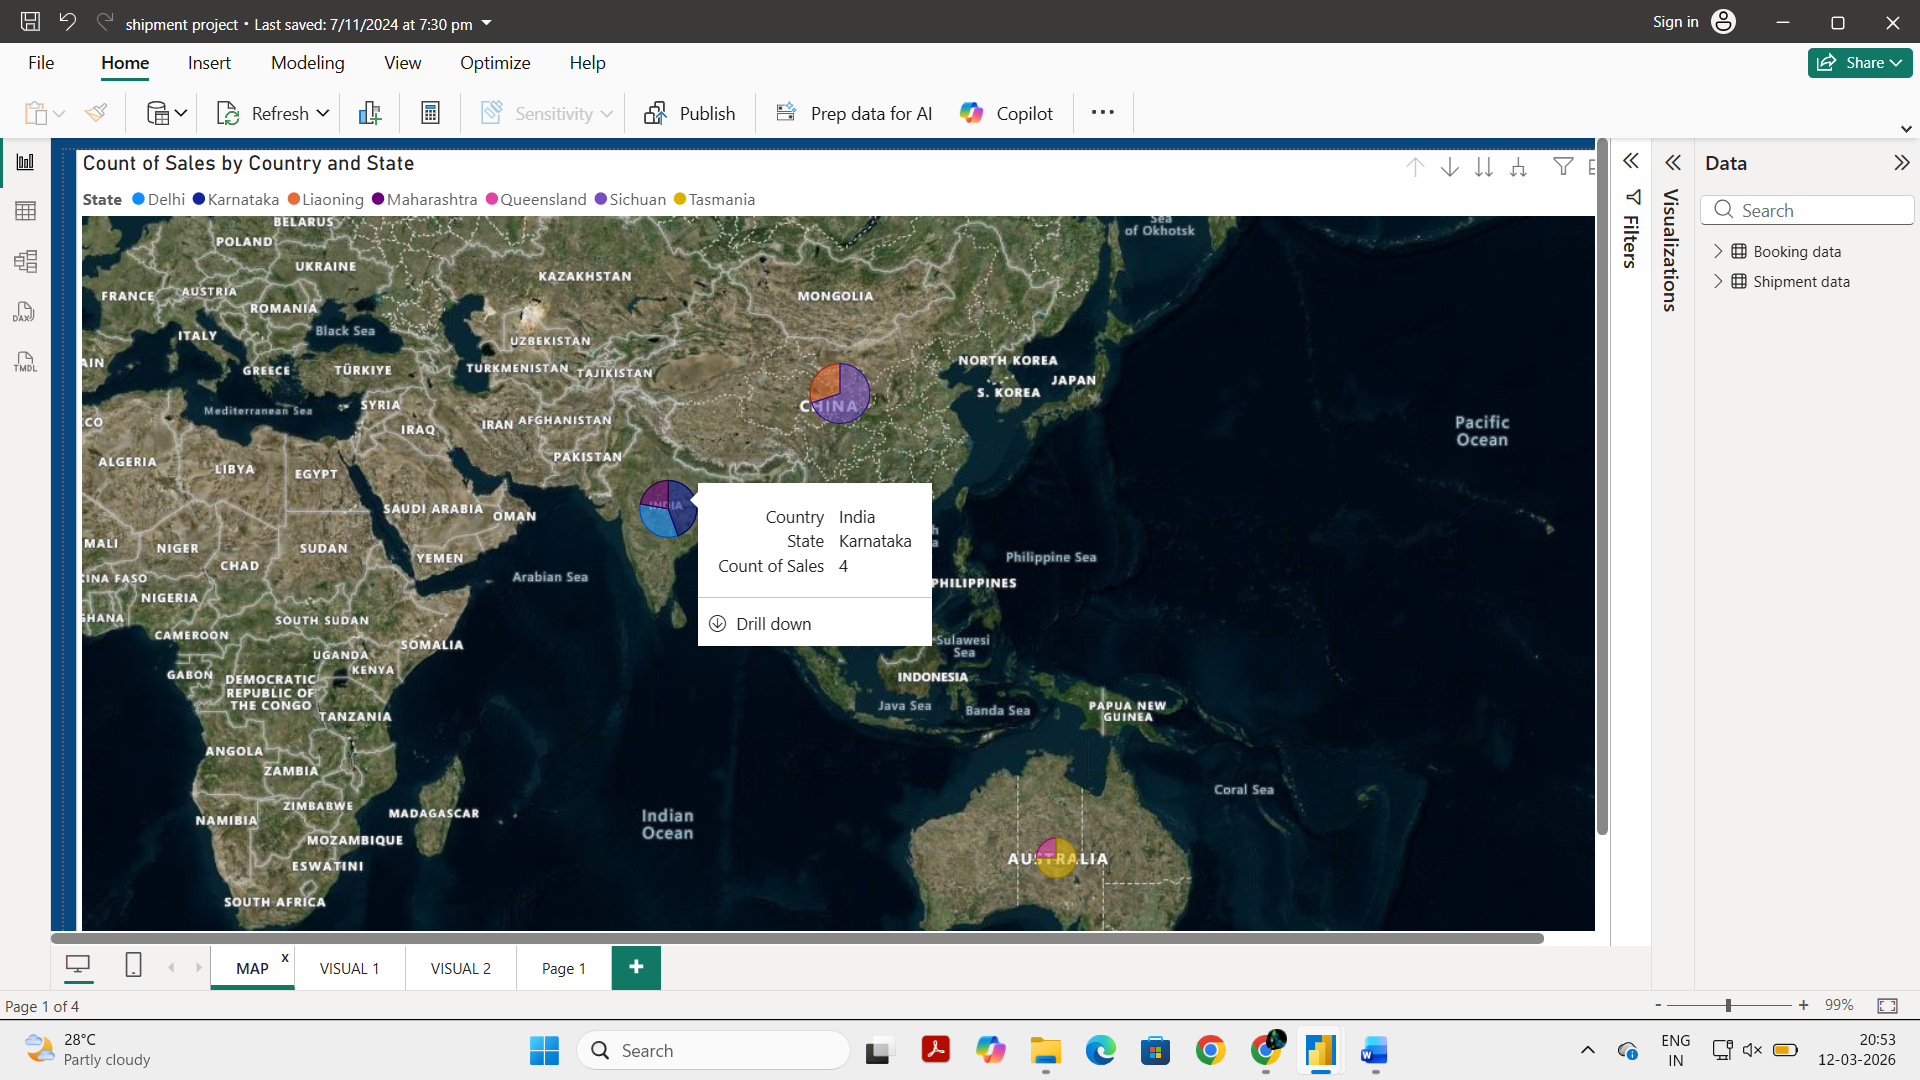

What the dashboard file says about the page in this screenshot:
{"tool":"powerbi","page":{"name":"MAP","canvas":[1280,720],"ordinal":0},"visuals":[{"type":"map","fields":{"Category":["Shipment data.Country Hierarchy.Country","Shipment data.Country Hierarchy.State","Shipment data.Country Hierarchy.City"],"Series":["Shipment data.State"],"Size":["CountNonNull(Shipment data.Sales)"]},"box":[9.8,0,1270.5,720.2],"z":0}]}

Visuals, with their boxes on the page's 1280x720 design canvas (x1, y1, x2, y2). These are canvas units, not pixel positions in the 1920x1080 screenshot, which may show the page scaled, cropped or inside an application window:
map - Shipment data.Country Hierarchy.Country x Shipment data.Country Hierarchy.State: {"left": 10, "top": 0, "right": 1280, "bottom": 720}
